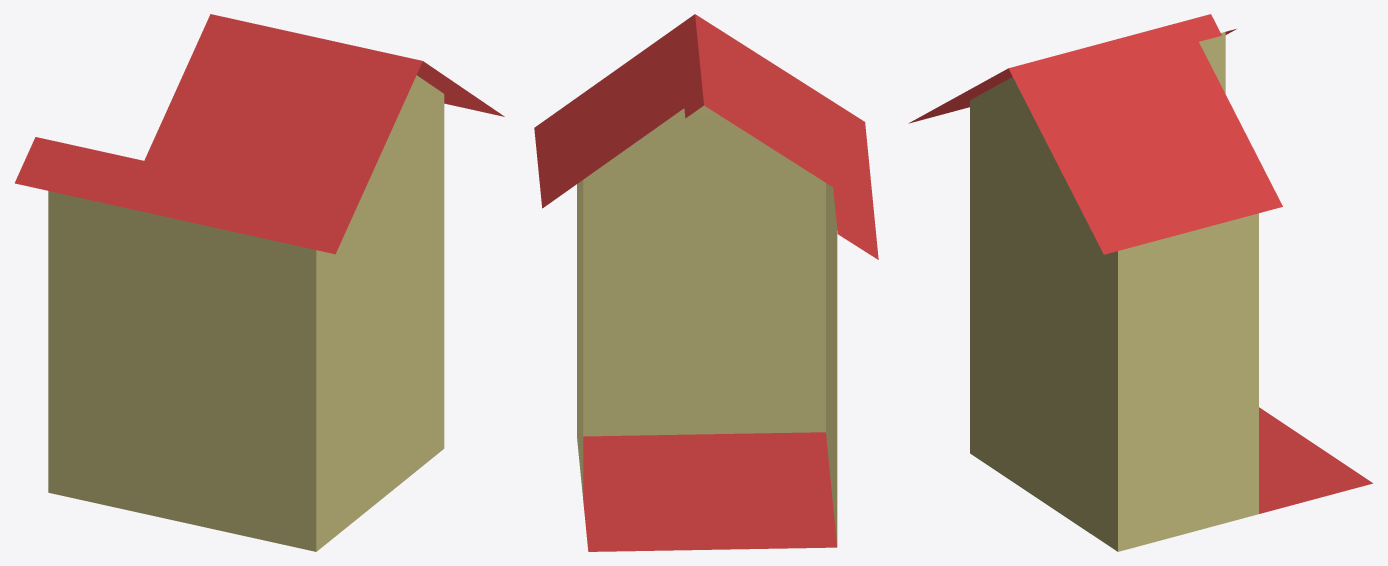
3 views of the same model, side by side, from view 1: azimuth 30°, elevation 25°; view 2: azimuth 150°, elevation 25°; view 3: azimuth 270°, elevation 25° (orthographic). The views are drawn at different scales.
Bounding box in the file's own units: 11.1 × 10.26 × 10.85.
